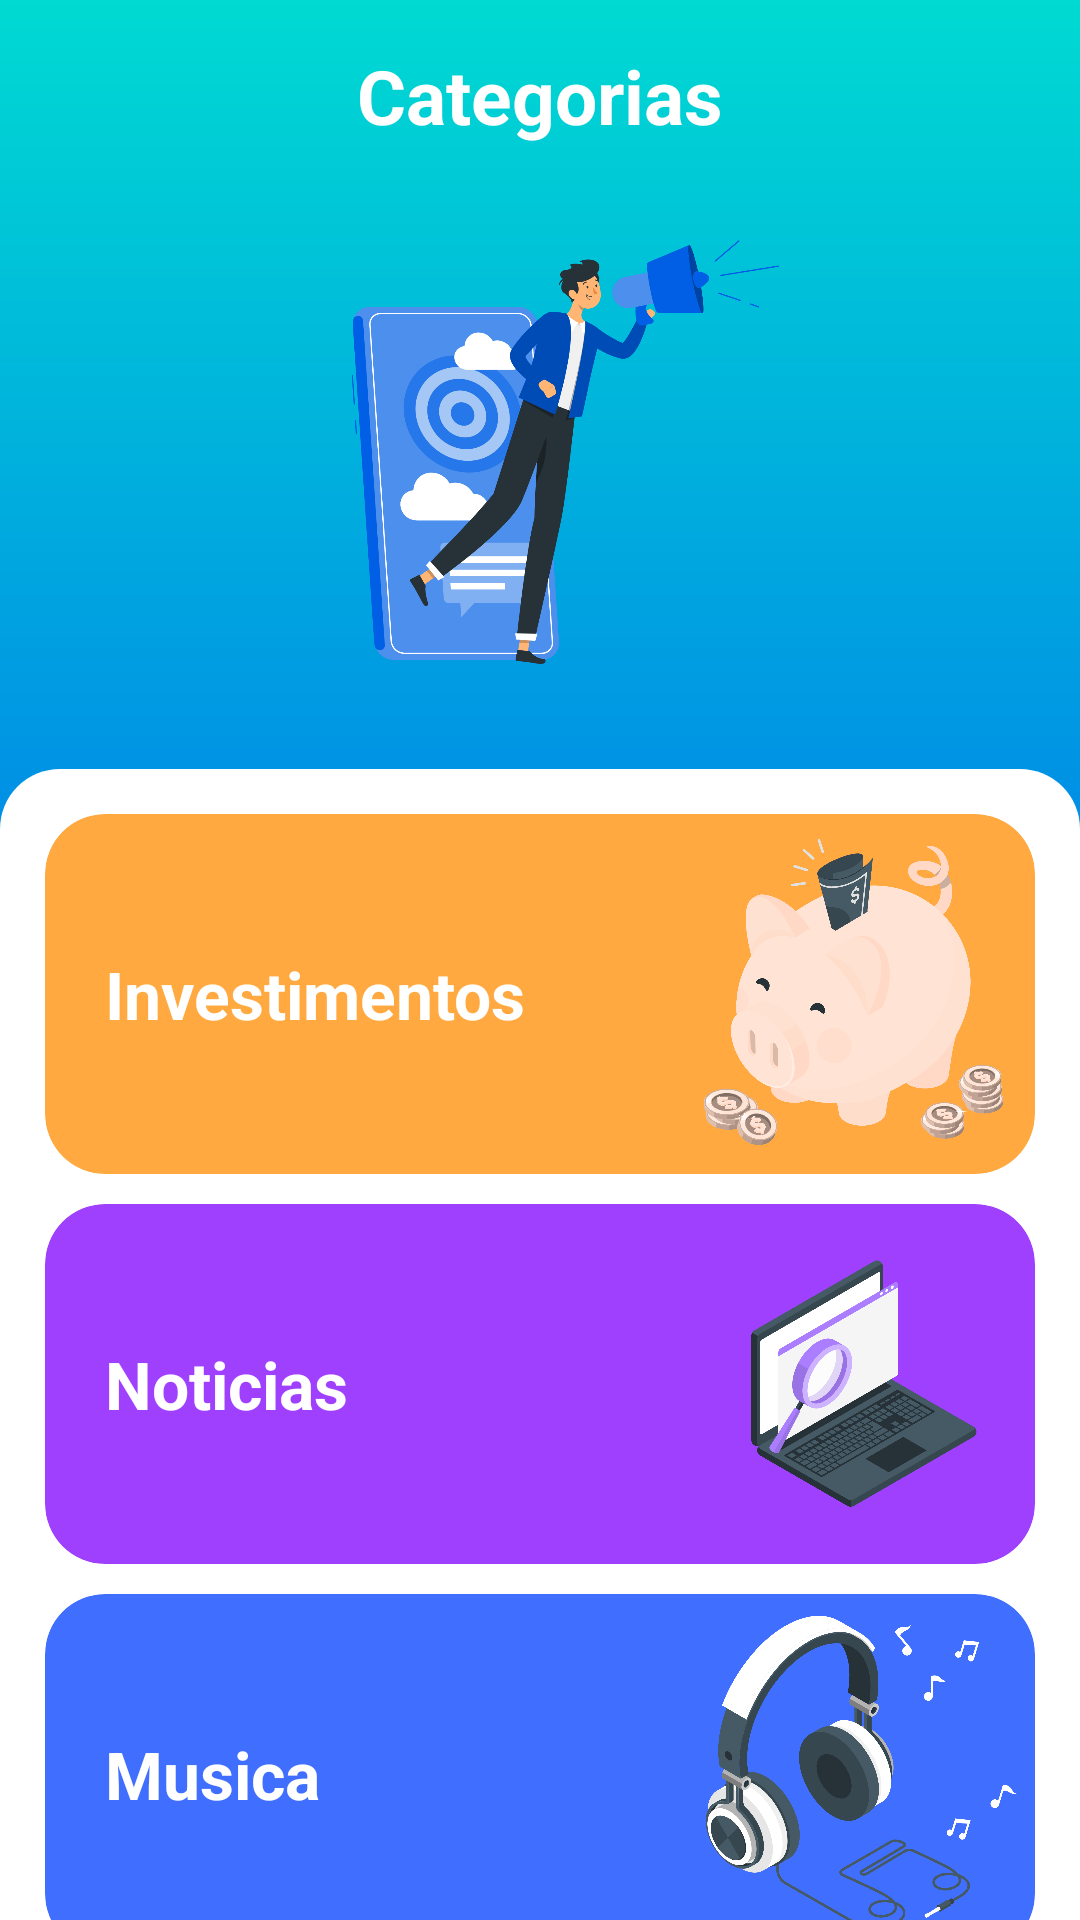

Locate icon controls on the screen. Image size 1080 x 1920, boxes as [x1=x1, y1=y1, x2=x2, y2=y2].
invertimentos category: [x1=675, y1=814, x2=1035, y2=1174]
